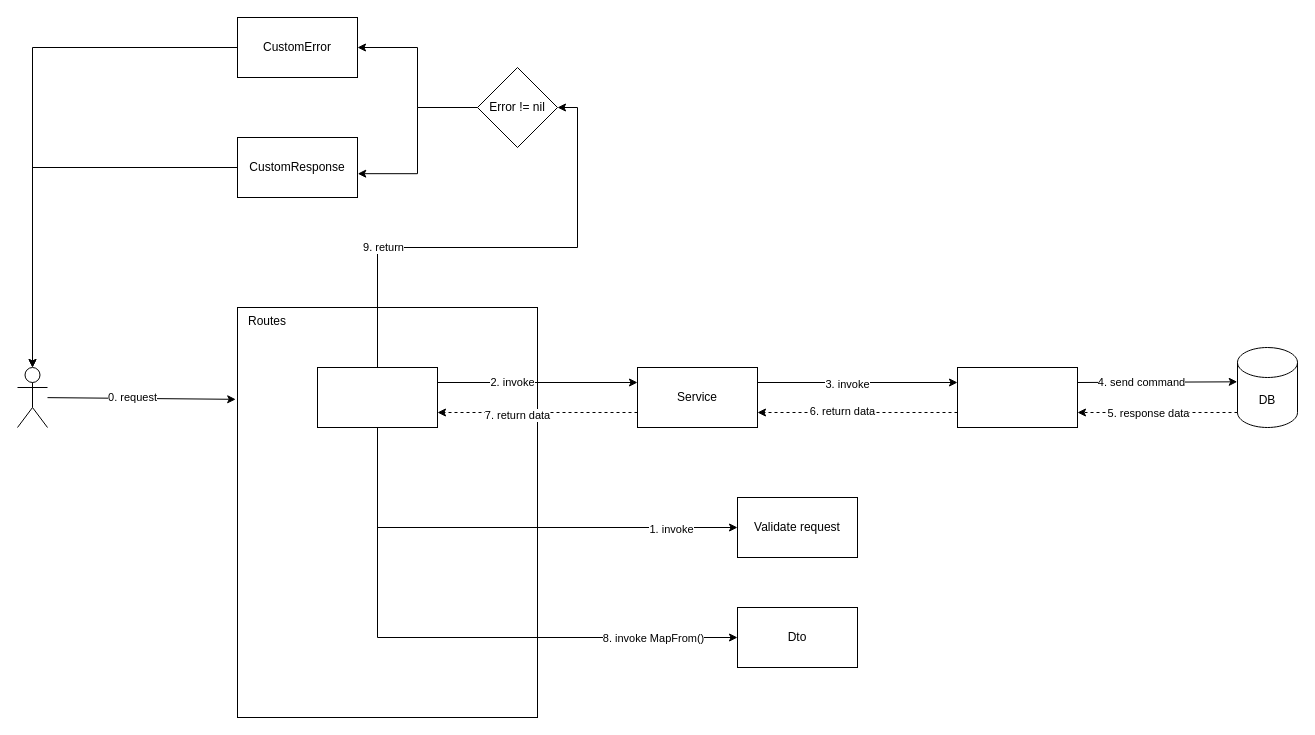
This 1315x735 diagram has some shape labels left out. Each missing label, with the centre of its shape:
"Client" goes at (x=32, y=397).
"Controller" goes at (x=377, y=397).
"Repository" goes at (x=1017, y=397).
